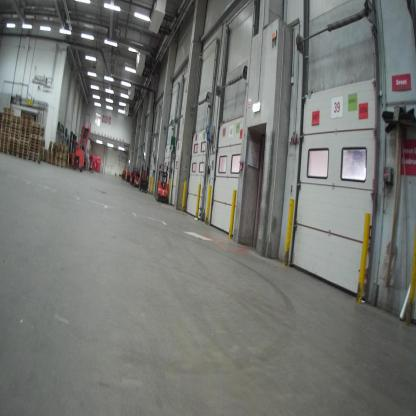pallet_truck: (153, 159, 171, 203), (138, 162, 151, 192), (133, 164, 143, 189), (129, 164, 137, 186), (126, 168, 133, 186), (121, 167, 128, 182)
